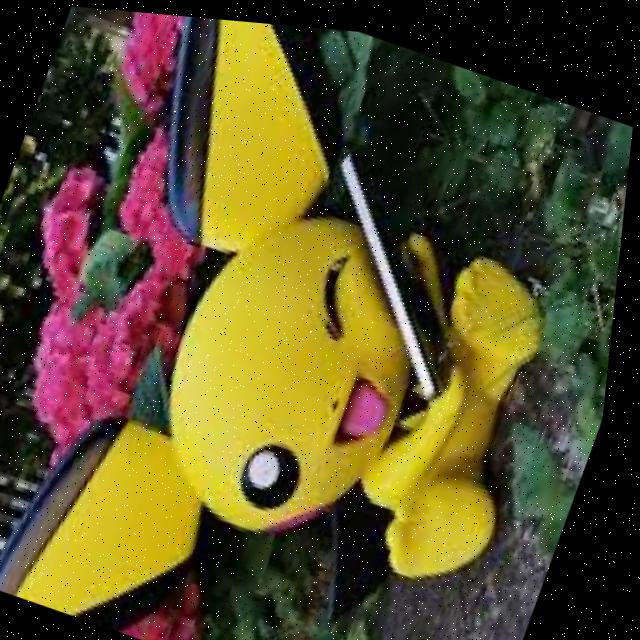pichu: (0, 1, 617, 640)
